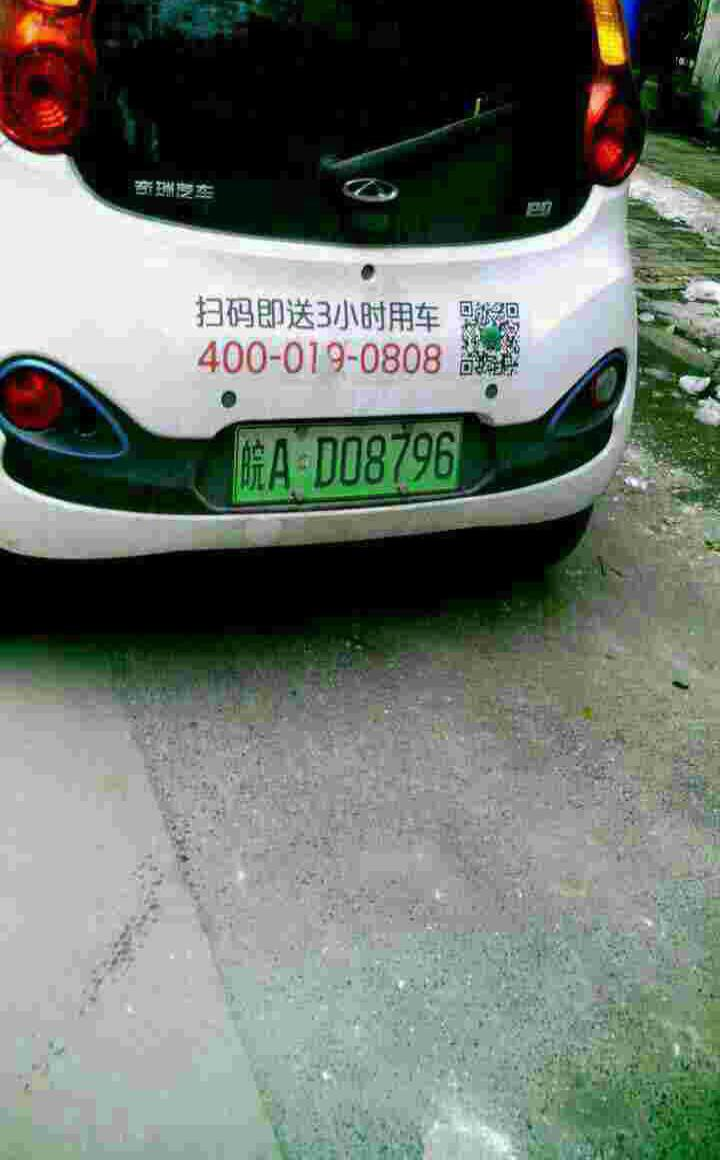car_id: (232, 419, 463, 504)
